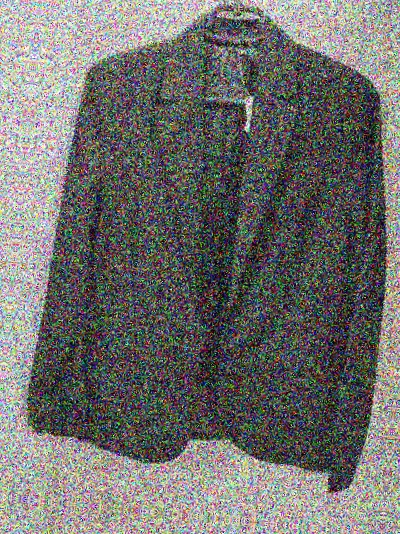Blazer: (1, 0, 400, 498), (0, 0, 34, 459), (391, 31, 400, 534)
